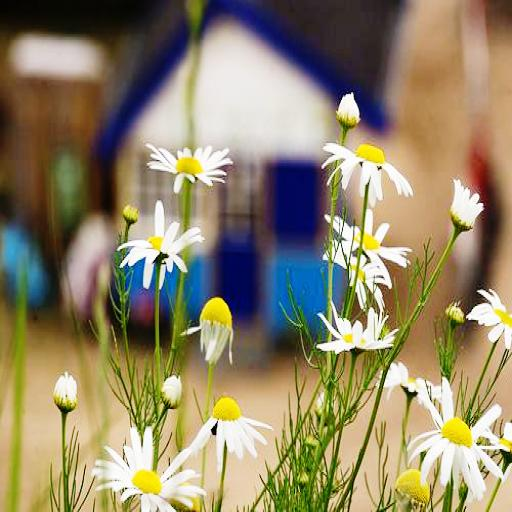daisy: (100, 438, 202, 512), (422, 402, 487, 490), (150, 136, 230, 190), (328, 142, 404, 198), (202, 401, 266, 458), (131, 212, 193, 269), (328, 218, 410, 260), (192, 298, 232, 366), (320, 314, 387, 350), (472, 288, 512, 342), (395, 461, 434, 512), (338, 258, 393, 294), (487, 412, 512, 487), (452, 181, 479, 237), (384, 368, 438, 396), (156, 374, 185, 409), (332, 91, 362, 123), (54, 378, 79, 411), (446, 296, 462, 328)
